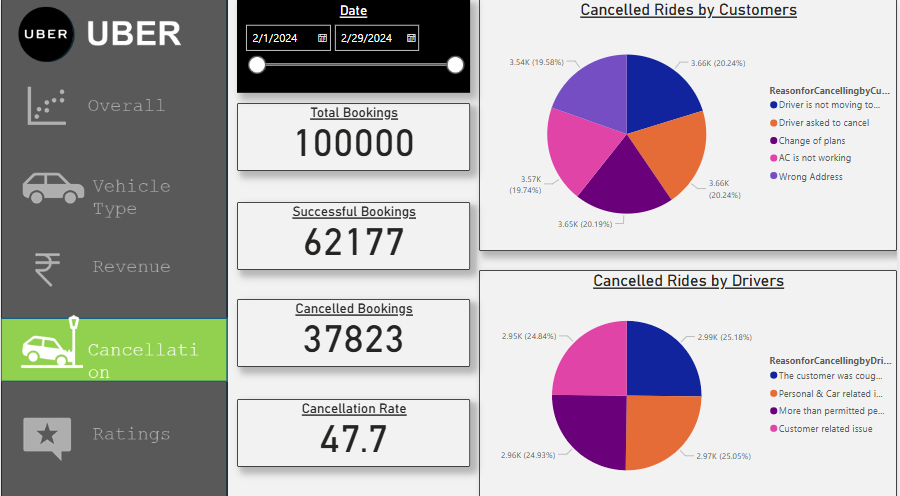

The page's visual inventory and layout, read from the dashboard file:
{"tool":"powerbi","page":{"name":"Cancellation","canvas":[1280,720],"ordinal":3},"visuals":[{"type":"actionButton","box":[0,235.3,324.6,83.6],"z":0},{"type":"actionButton","box":[0,337.3,324.6,92.1],"z":1000},{"type":"actionButton","box":[0,117.6,324.6,79.4],"z":2000},{"type":"actionButton","box":[0,449.3,324.6,97.8],"z":3000},{"type":"actionButton","box":[0,589.6,324.6,78],"z":4000},{"type":"pieChart","title":"Cancelled Rides by Customers","fields":{"Y":["CountNonNull(Bengaluru_Rides_Data.BookingStatus)"],"Category":["Bengaluru_Rides_Data.ReasonforCancellingbyCustomer"]},"box":[682.9,0,597.1,360],"z":5000},{"type":"pieChart","title":"Cancelled Rides by Drivers","fields":{"Y":["CountNonNull(Bengaluru_Rides_Data.BookingStatus)"],"Category":["Bengaluru_Rides_Data.ReasonforCancellingbyDriver"]},"box":[682.9,387.1,597.1,332.9],"z":6000},{"type":"slicer","title":"Date","fields":{"Values":["Bengaluru_Rides_Data.Date"]},"box":[337.1,0,332.9,134.3],"z":7000},{"type":"card","title":"Total Bookings","fields":{"Values":["Count(Bengaluru_Rides_Data.BookingID)"]},"box":[337.1,148.6,332.9,97.1],"z":8000},{"type":"card","title":"Successful Bookings","fields":{"Values":["Count(Bengaluru_Rides_Data.BookingID)"]},"box":[337.1,290,332.9,97.1],"z":9000},{"type":"card","title":"Cancelled Bookings","fields":{"Values":["Count(Bengaluru_Rides_Data.BookingID)"]},"box":[337.1,428.6,332.9,97.1],"z":10000},{"type":"card","title":"Cancellation Rate","fields":{"Values":["Bengaluru_Rides_Data.CancelPercentage"]},"box":[337.1,571.4,332.9,97.1],"z":11000}]}

Visuals, with their boxes on the page's 1280x720 design canvas (x1, y1, x2, y2). These are canvas units, not pixel positions in the 900x496 screenshot, which may show the page scaled, cropped or inside an application window:
actionButton: left=0, top=235, right=325, bottom=319
actionButton: left=0, top=337, right=325, bottom=429
actionButton: left=0, top=118, right=325, bottom=197
actionButton: left=0, top=449, right=325, bottom=547
actionButton: left=0, top=590, right=325, bottom=668
"Cancelled Rides by Customers" pieChart: left=683, top=0, right=1280, bottom=360
"Cancelled Rides by Drivers" pieChart: left=683, top=387, right=1280, bottom=720
"Date" slicer: left=337, top=0, right=670, bottom=134
"Total Bookings" card: left=337, top=149, right=670, bottom=246
"Successful Bookings" card: left=337, top=290, right=670, bottom=387
"Cancelled Bookings" card: left=337, top=429, right=670, bottom=526
"Cancellation Rate" card: left=337, top=571, right=670, bottom=668
